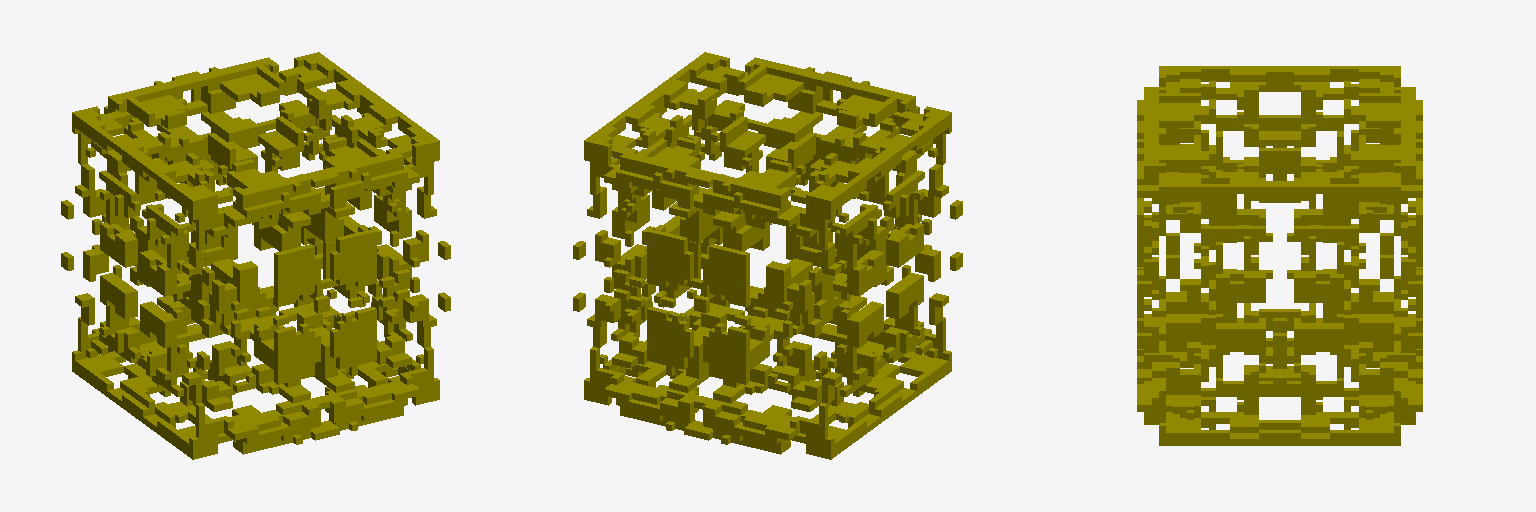
The picture shows the model from 3 angles: view 1: azimuth 30°, elevation 25°; view 2: azimuth 150°, elevation 25°; view 3: azimuth 270°, elevation 25°; orthographic projection.
Visible parts, largest first — view 1: 黄色模型; view 2: 黄色模型; view 3: 黄色模型.
Boxes of the visible parts, box(x1,y1,x2,y2) form: 黄色模型: box(61, 52, 450, 459); 黄色模型: box(573, 52, 962, 459); 黄色模型: box(1137, 66, 1422, 445).
Bounding box in the file's own units: 40 × 40 × 40.
1 materials, 1 textured.